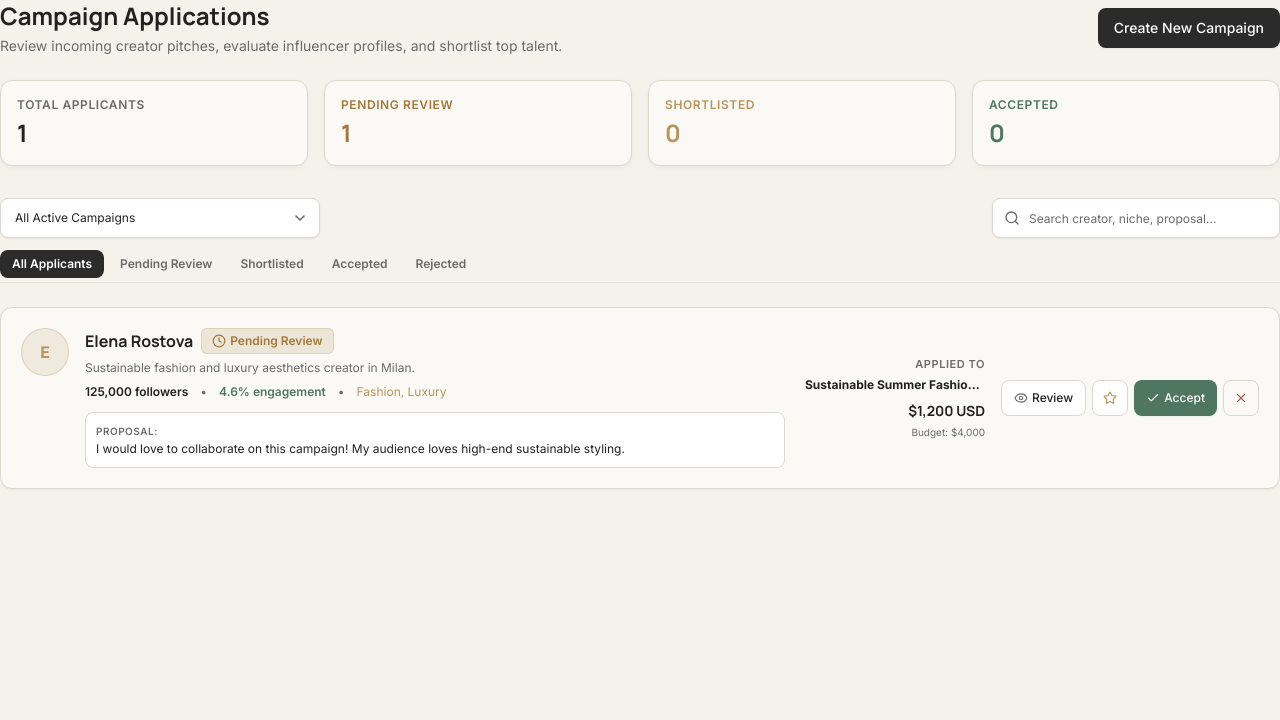
Scenario: Frontend Applications UI Tests (Phase 5) › BrandApplicationsPage — Applicant Management › opens detailed review modal when clicking Review
The image size is (1280, 720).
expect the heading "Elena Rostova" is shown: met, box x1=85 y1=329 x2=193 y2=353
Step 1. Click the button "Review" → [1044, 398], box x1=1001 y1=380 x2=1086 y2=416
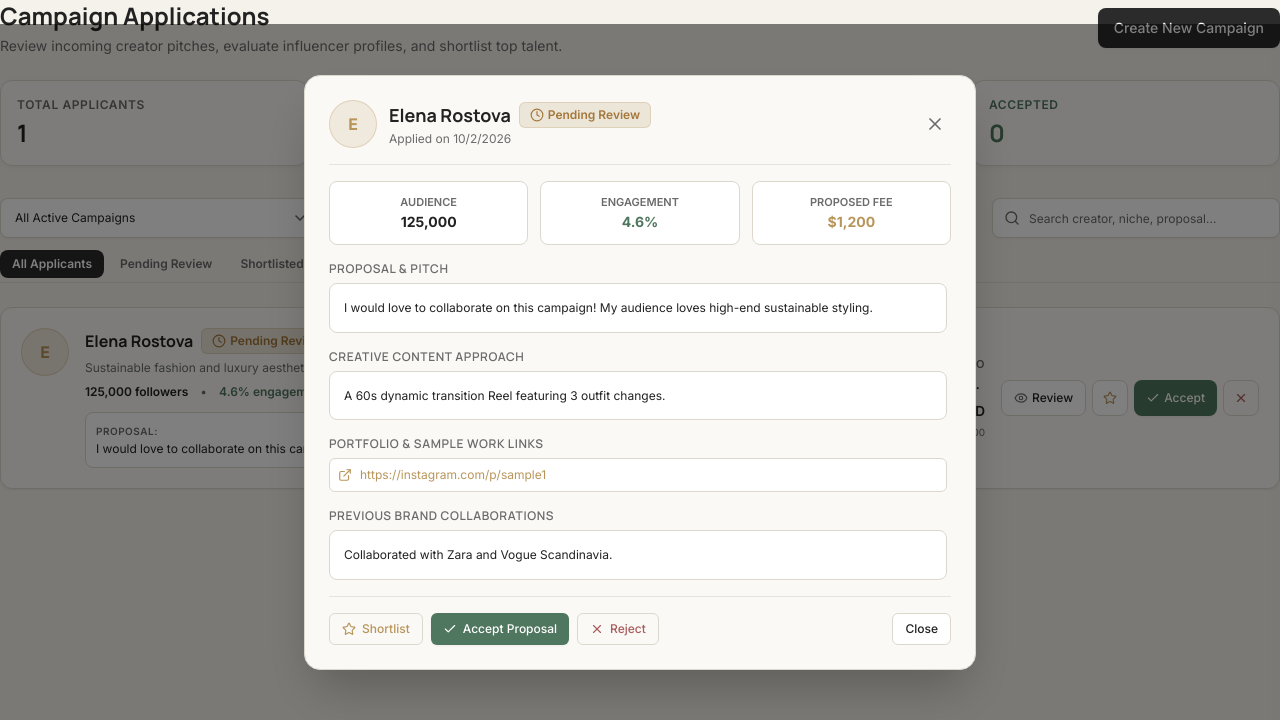
expect the heading "Proposal & Pitch" is shown: met, box x1=329 y1=261 x2=448 y2=277
expect the heading "Creative Content Approach" is shown: met, box x1=329 y1=348 x2=524 y2=364
expect the text "A 60s dynamic transition Reel featuring 3 outfit changes." is shown: met, box x1=329 y1=370 x2=947 y2=420
